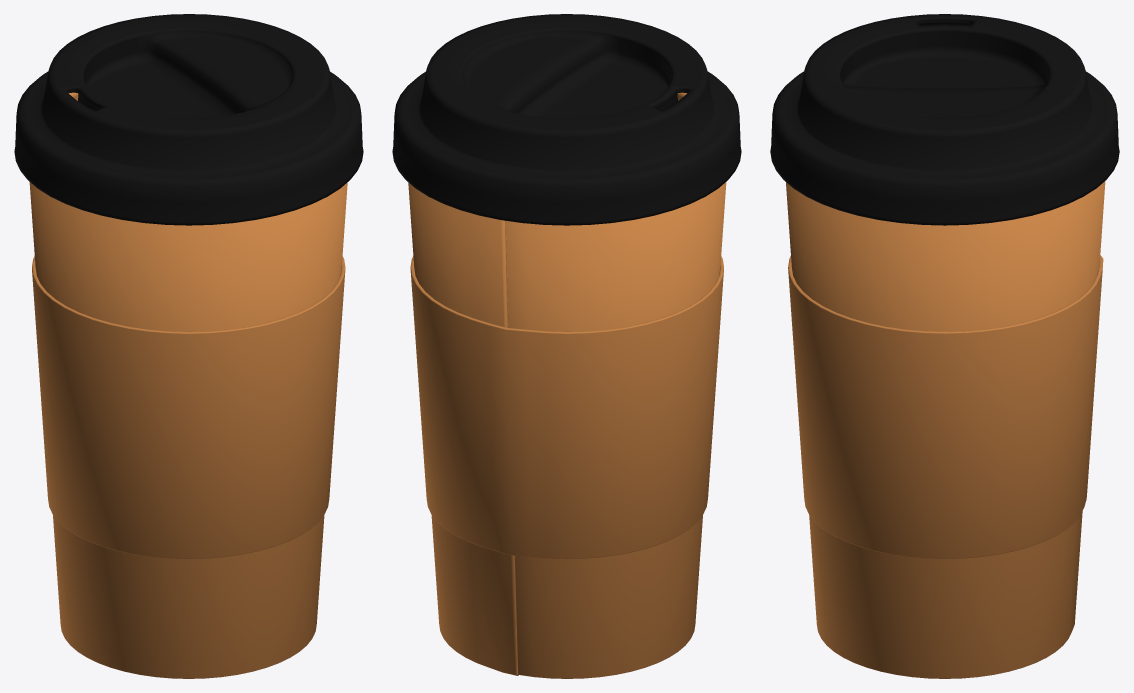
The model's file is Cups.glb.
3 renders of one model, left to right at view 1: azimuth 30°, elevation 25°; view 2: azimuth 150°, elevation 25°; view 3: azimuth 270°, elevation 25°, orthographic.
Visible parts, largest first — view 1: MM_Coffee_Cup_Holder_Low, MM_Coffee_Cup_Cup_Low, MM_Coffee_Cup_Cap_Low; view 2: MM_Coffee_Cup_Holder_Low, MM_Coffee_Cup_Cup_Low, MM_Coffee_Cup_Cap_Low; view 3: MM_Coffee_Cup_Holder_Low, MM_Coffee_Cup_Cup_Low, MM_Coffee_Cup_Cap_Low.
Boxes of the visible parts, x1,y1,x2,y2 form: MM_Coffee_Cup_Holder_Low: [32, 256, 345, 558]; MM_Coffee_Cup_Cup_Low: [29, 92, 347, 678]; MM_Coffee_Cup_Cap_Low: [14, 14, 363, 225]; MM_Coffee_Cup_Holder_Low: [410, 256, 723, 558]; MM_Coffee_Cup_Cup_Low: [408, 92, 726, 678]; MM_Coffee_Cup_Cap_Low: [392, 14, 741, 225]; MM_Coffee_Cup_Holder_Low: [788, 255, 1103, 558]; MM_Coffee_Cup_Cup_Low: [786, 181, 1105, 678]; MM_Coffee_Cup_Cap_Low: [770, 14, 1119, 225].
Bounding box in the file's own units: 1.41 × 2.47 × 1.41.
